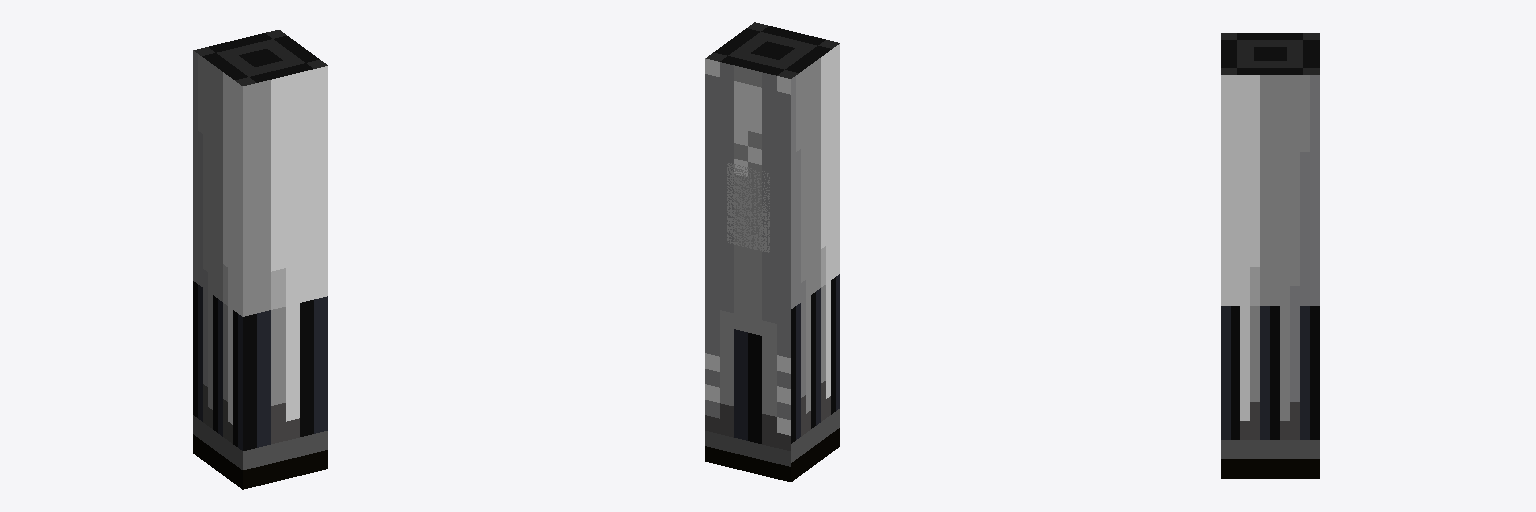
3 views of the same model, side by side, from view 1: azimuth 30°, elevation 25°; view 2: azimuth 150°, elevation 25°; view 3: azimuth 270°, elevation 25° (orthographic).
Parts seen in each view (by area): view 1: cube; view 2: cube; view 3: cube.
Part boxes in pixels (x1,y1,x2,y2): cube: (193, 30, 327, 489); cube: (705, 22, 839, 481); cube: (1221, 33, 1319, 478).
Bounding box in the file's own units: 2 × 9 × 2.4.
Materials: 2 (1 with a texture image).